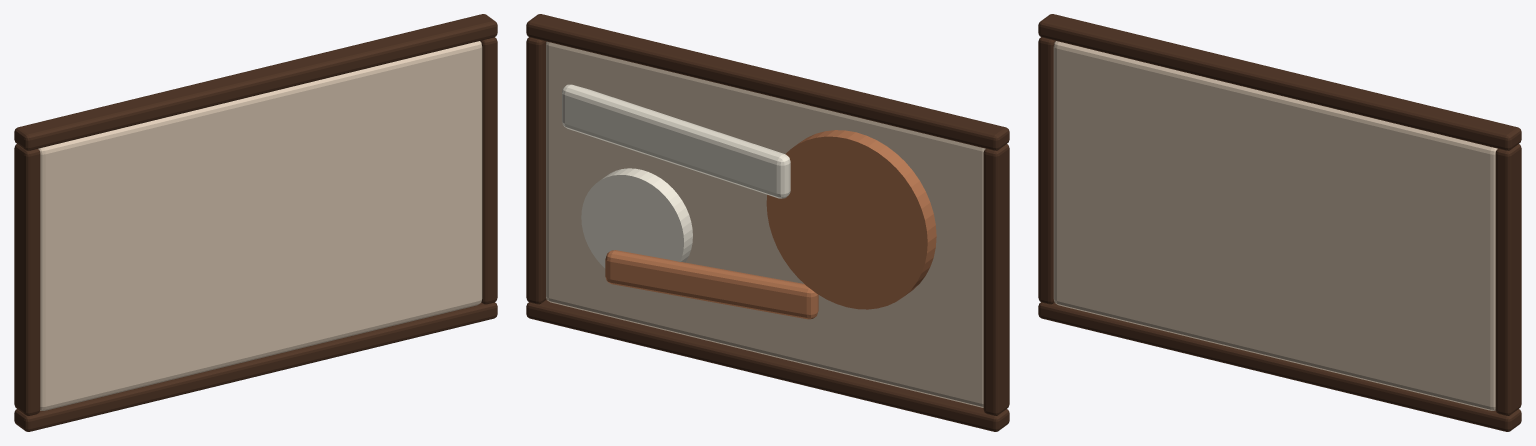
Rendered from project-warm-minimal-bedroom-art.glb.
3 views of the same model, side by side, from view 1: azimuth 30°, elevation 25°; view 2: azimuth 150°, elevation 25°; view 3: azimuth 330°, elevation 25° (orthographic).
Parts seen in each view (by area): view 1: canvas, frame-top, frame-bottom, frame-left, frame-right; view 2: canvas, clay-sun, frame-top, ivory-horizon, frame-bottom, ivory-moon, clay-horizon, frame-left, frame-right; view 3: canvas, frame-top, frame-bottom, frame-right, frame-left.
Part boxes in pixels (<box>): canvas: <box>38,41,482,410</box>; frame-top: <box>14,14,497,150</box>; frame-bottom: <box>14,302,497,431</box>; frame-left: <box>14,144,40,415</box>; frame-right: <box>480,37,497,304</box>; canvas: <box>546,41,985,407</box>; clay-sun: <box>766,130,936,309</box>; frame-top: <box>526,14,1009,150</box>; ivory-horizon: <box>562,84,790,198</box>; frame-bottom: <box>526,299,1009,431</box>; ivory-moon: <box>581,168,692,268</box>; clay-horizon: <box>605,250,818,319</box>; frame-left: <box>983,144,1009,415</box>; frame-right: <box>526,37,546,304</box>; canvas: <box>1053,41,1497,410</box>; frame-top: <box>1038,14,1521,150</box>; frame-bottom: <box>1038,302,1521,431</box>; frame-right: <box>1495,144,1521,415</box>; frame-left: <box>1038,37,1055,304</box>.
Bounding box in the file's own units: 1.38 × 0.8289 × 0.1695.
